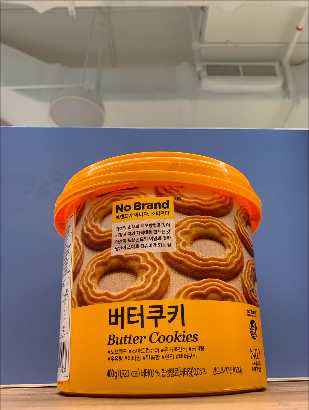Cookies_400-499g: (79, 182, 260, 382)
